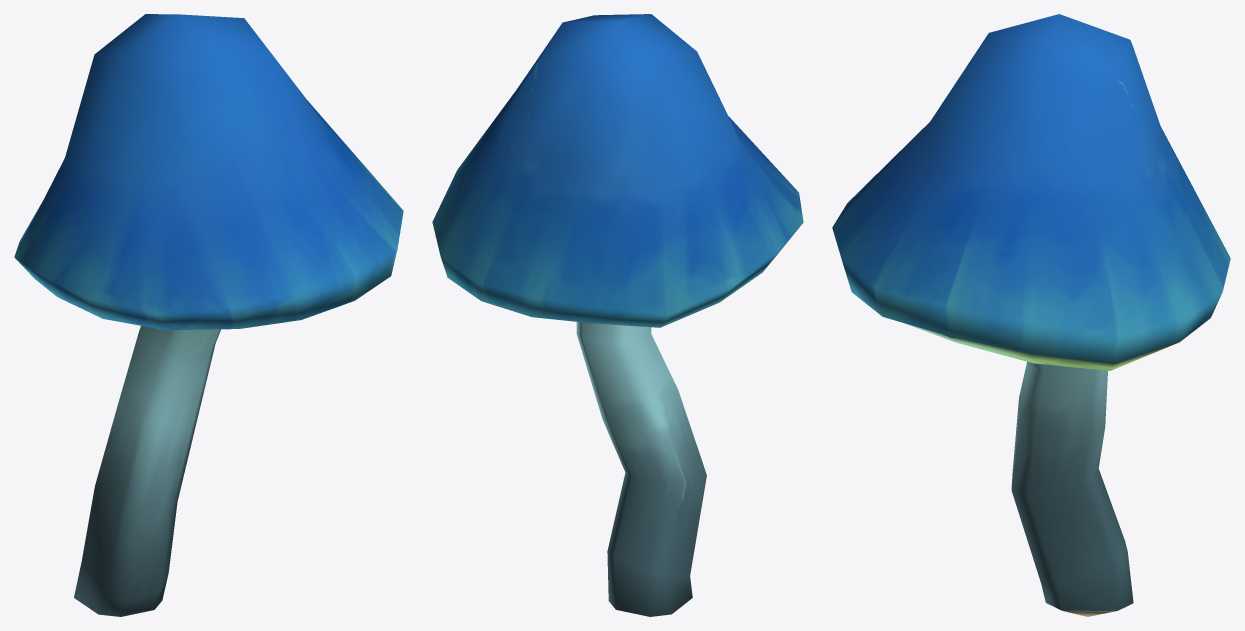
Rendered from MushroomPinch3_Deco.fbx.
The picture shows the model from 3 angles, left to right: view 1: azimuth 30°, elevation 25°; view 2: azimuth 150°, elevation 25°; view 3: azimuth 270°, elevation 25°; orthographic projection. The views are drawn at different scales.
Visible parts, largest first — view 1: MushroomPinch3; view 2: MushroomPinch3; view 3: MushroomPinch3.
Part boxes in pixels (bbox=[...]): MushroomPinch3: bbox=[14, 14, 403, 616]; MushroomPinch3: bbox=[432, 14, 803, 616]; MushroomPinch3: bbox=[832, 14, 1230, 616].
Size of the model in its own units: 7.49 by 12.64 by 7.39.
